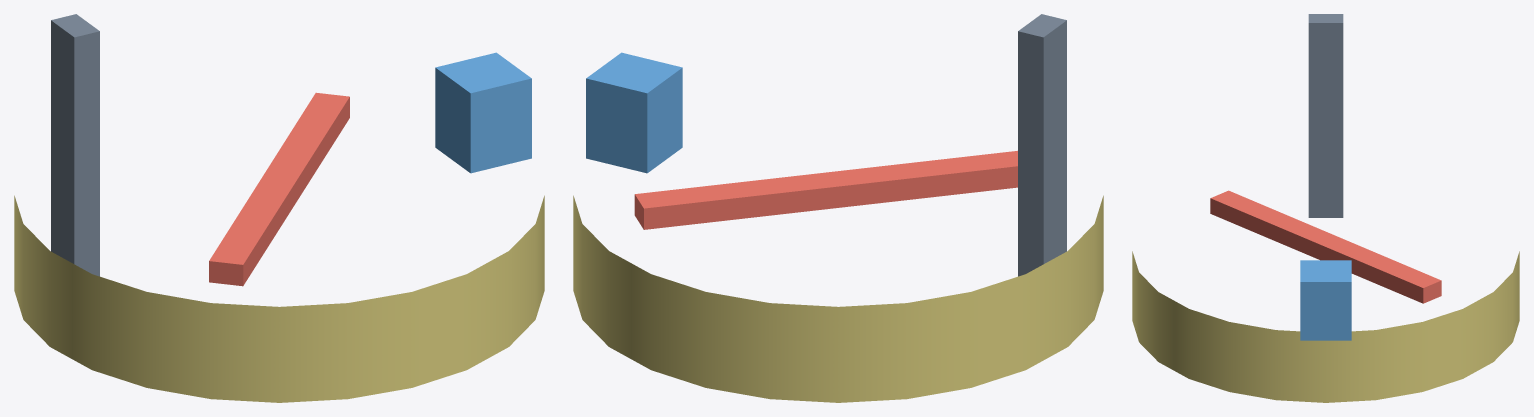
The model's file is prismatic_compass_traverse_survey.glb.
The picture shows the model from 3 angles, left to right: view 1: azimuth 30°, elevation 25°; view 2: azimuth 150°, elevation 25°; view 3: azimuth 270°, elevation 25°; orthographic projection. The views are drawn at different scales.
Visible parts, largest first — view 1: PrismaticCompassCircularBox, SightingVaneWithHorsehair, ReflectingPrismEyepiece, MagneticNeedleGraduatedRing; view 2: PrismaticCompassCircularBox, MagneticNeedleGraduatedRing, SightingVaneWithHorsehair, ReflectingPrismEyepiece; view 3: PrismaticCompassCircularBox, SightingVaneWithHorsehair, MagneticNeedleGraduatedRing, ReflectingPrismEyepiece.
Part boxes in pixels (bbox=[...]): PrismaticCompassCircularBox: bbox=[14, 195, 544, 402]; SightingVaneWithHorsehair: bbox=[51, 14, 99, 276]; ReflectingPrismEyepiece: bbox=[435, 52, 531, 173]; MagneticNeedleGraduatedRing: bbox=[209, 92, 349, 286]; PrismaticCompassCircularBox: bbox=[573, 195, 1103, 402]; MagneticNeedleGraduatedRing: bbox=[634, 150, 1017, 229]; SightingVaneWithHorsehair: bbox=[1018, 14, 1066, 276]; ReflectingPrismEyepiece: bbox=[586, 52, 682, 173]; PrismaticCompassCircularBox: bbox=[1132, 251, 1519, 402]; SightingVaneWithHorsehair: bbox=[1308, 14, 1343, 217]; MagneticNeedleGraduatedRing: bbox=[1210, 190, 1441, 303]; ReflectingPrismEyepiece: bbox=[1300, 260, 1351, 340].
Size of the model in its own units: 0.91 by 0.59 by 0.9.
